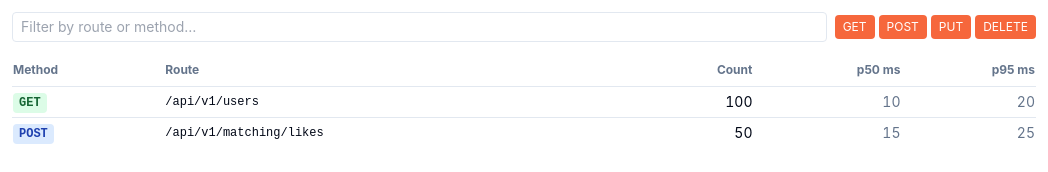
Test: RequestVolumeTable › filters rows by search text
Type "matching" into the field named "Filter endpoints" at (419, 27), box [12,12,827,42]
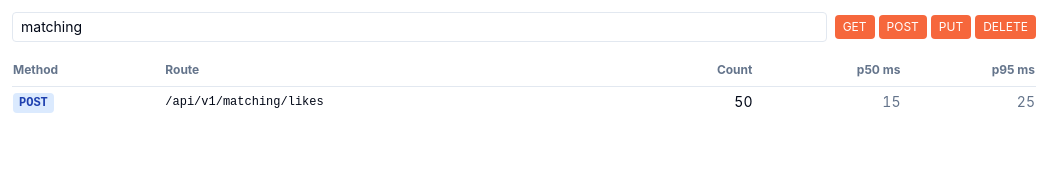
Expected: the text "/api/v1/matching/likes" is shown, [164,86,635,117]
Expected: the text "/api/v1/users" is gone
